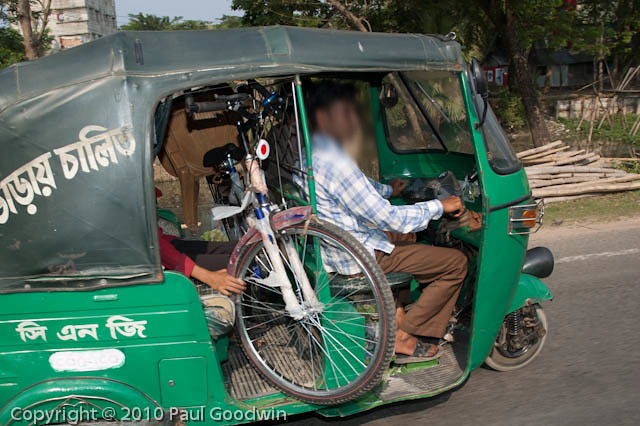bicycle: (184, 97, 396, 406)
cng: (1, 23, 553, 424)
